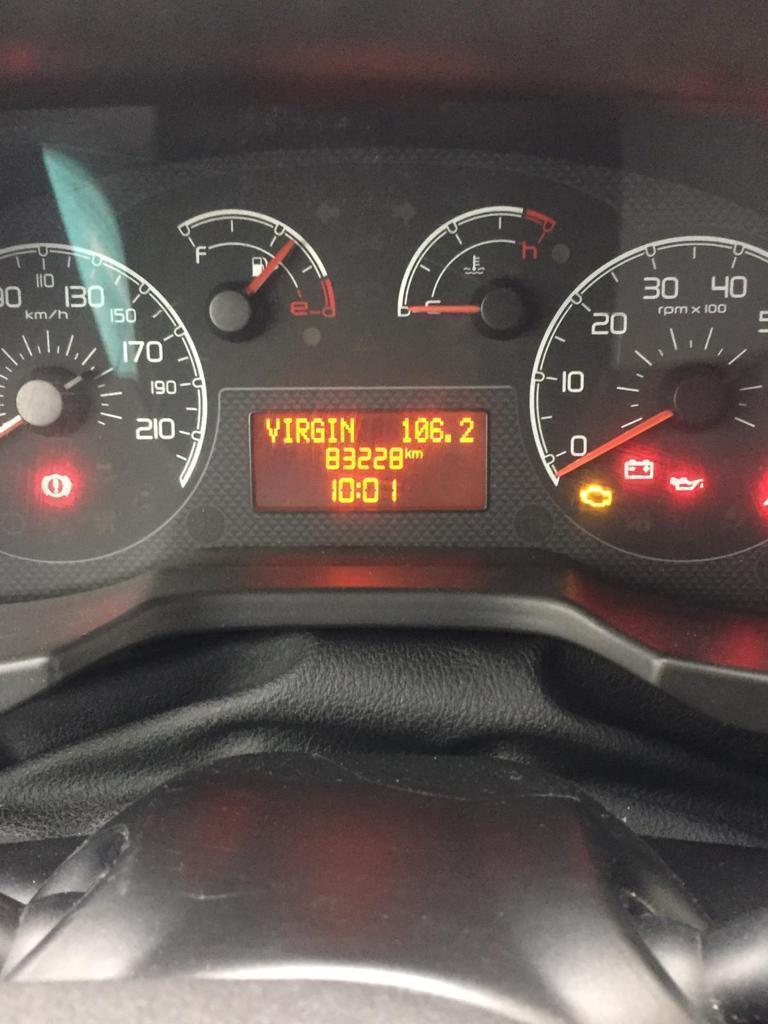,: (444, 431, 452, 444)
0: (337, 476, 355, 504), (362, 476, 379, 503), (414, 416, 429, 443)
1: (401, 415, 412, 443), (390, 477, 397, 504), (330, 477, 337, 503)
2: (458, 416, 475, 443), (372, 446, 388, 470), (357, 446, 371, 470)
3: (341, 446, 356, 470)
6: (429, 415, 444, 443)
8: (325, 446, 340, 469), (389, 446, 403, 469)
X: (264, 415, 281, 445), (338, 415, 354, 444), (294, 416, 310, 444), (310, 416, 324, 444), (282, 414, 292, 446), (326, 416, 337, 443), (412, 449, 423, 460), (355, 480, 361, 500), (404, 446, 411, 459)
odometer: (247, 406, 490, 515)
